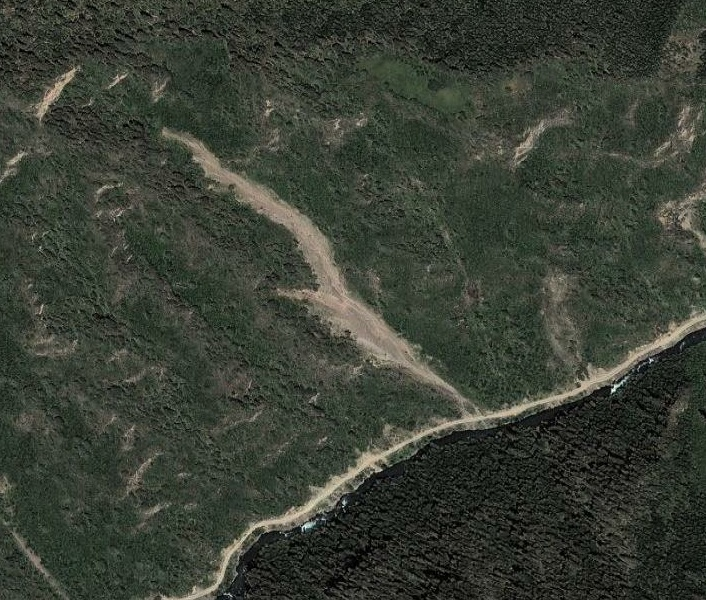slope: (156, 119, 470, 407)
